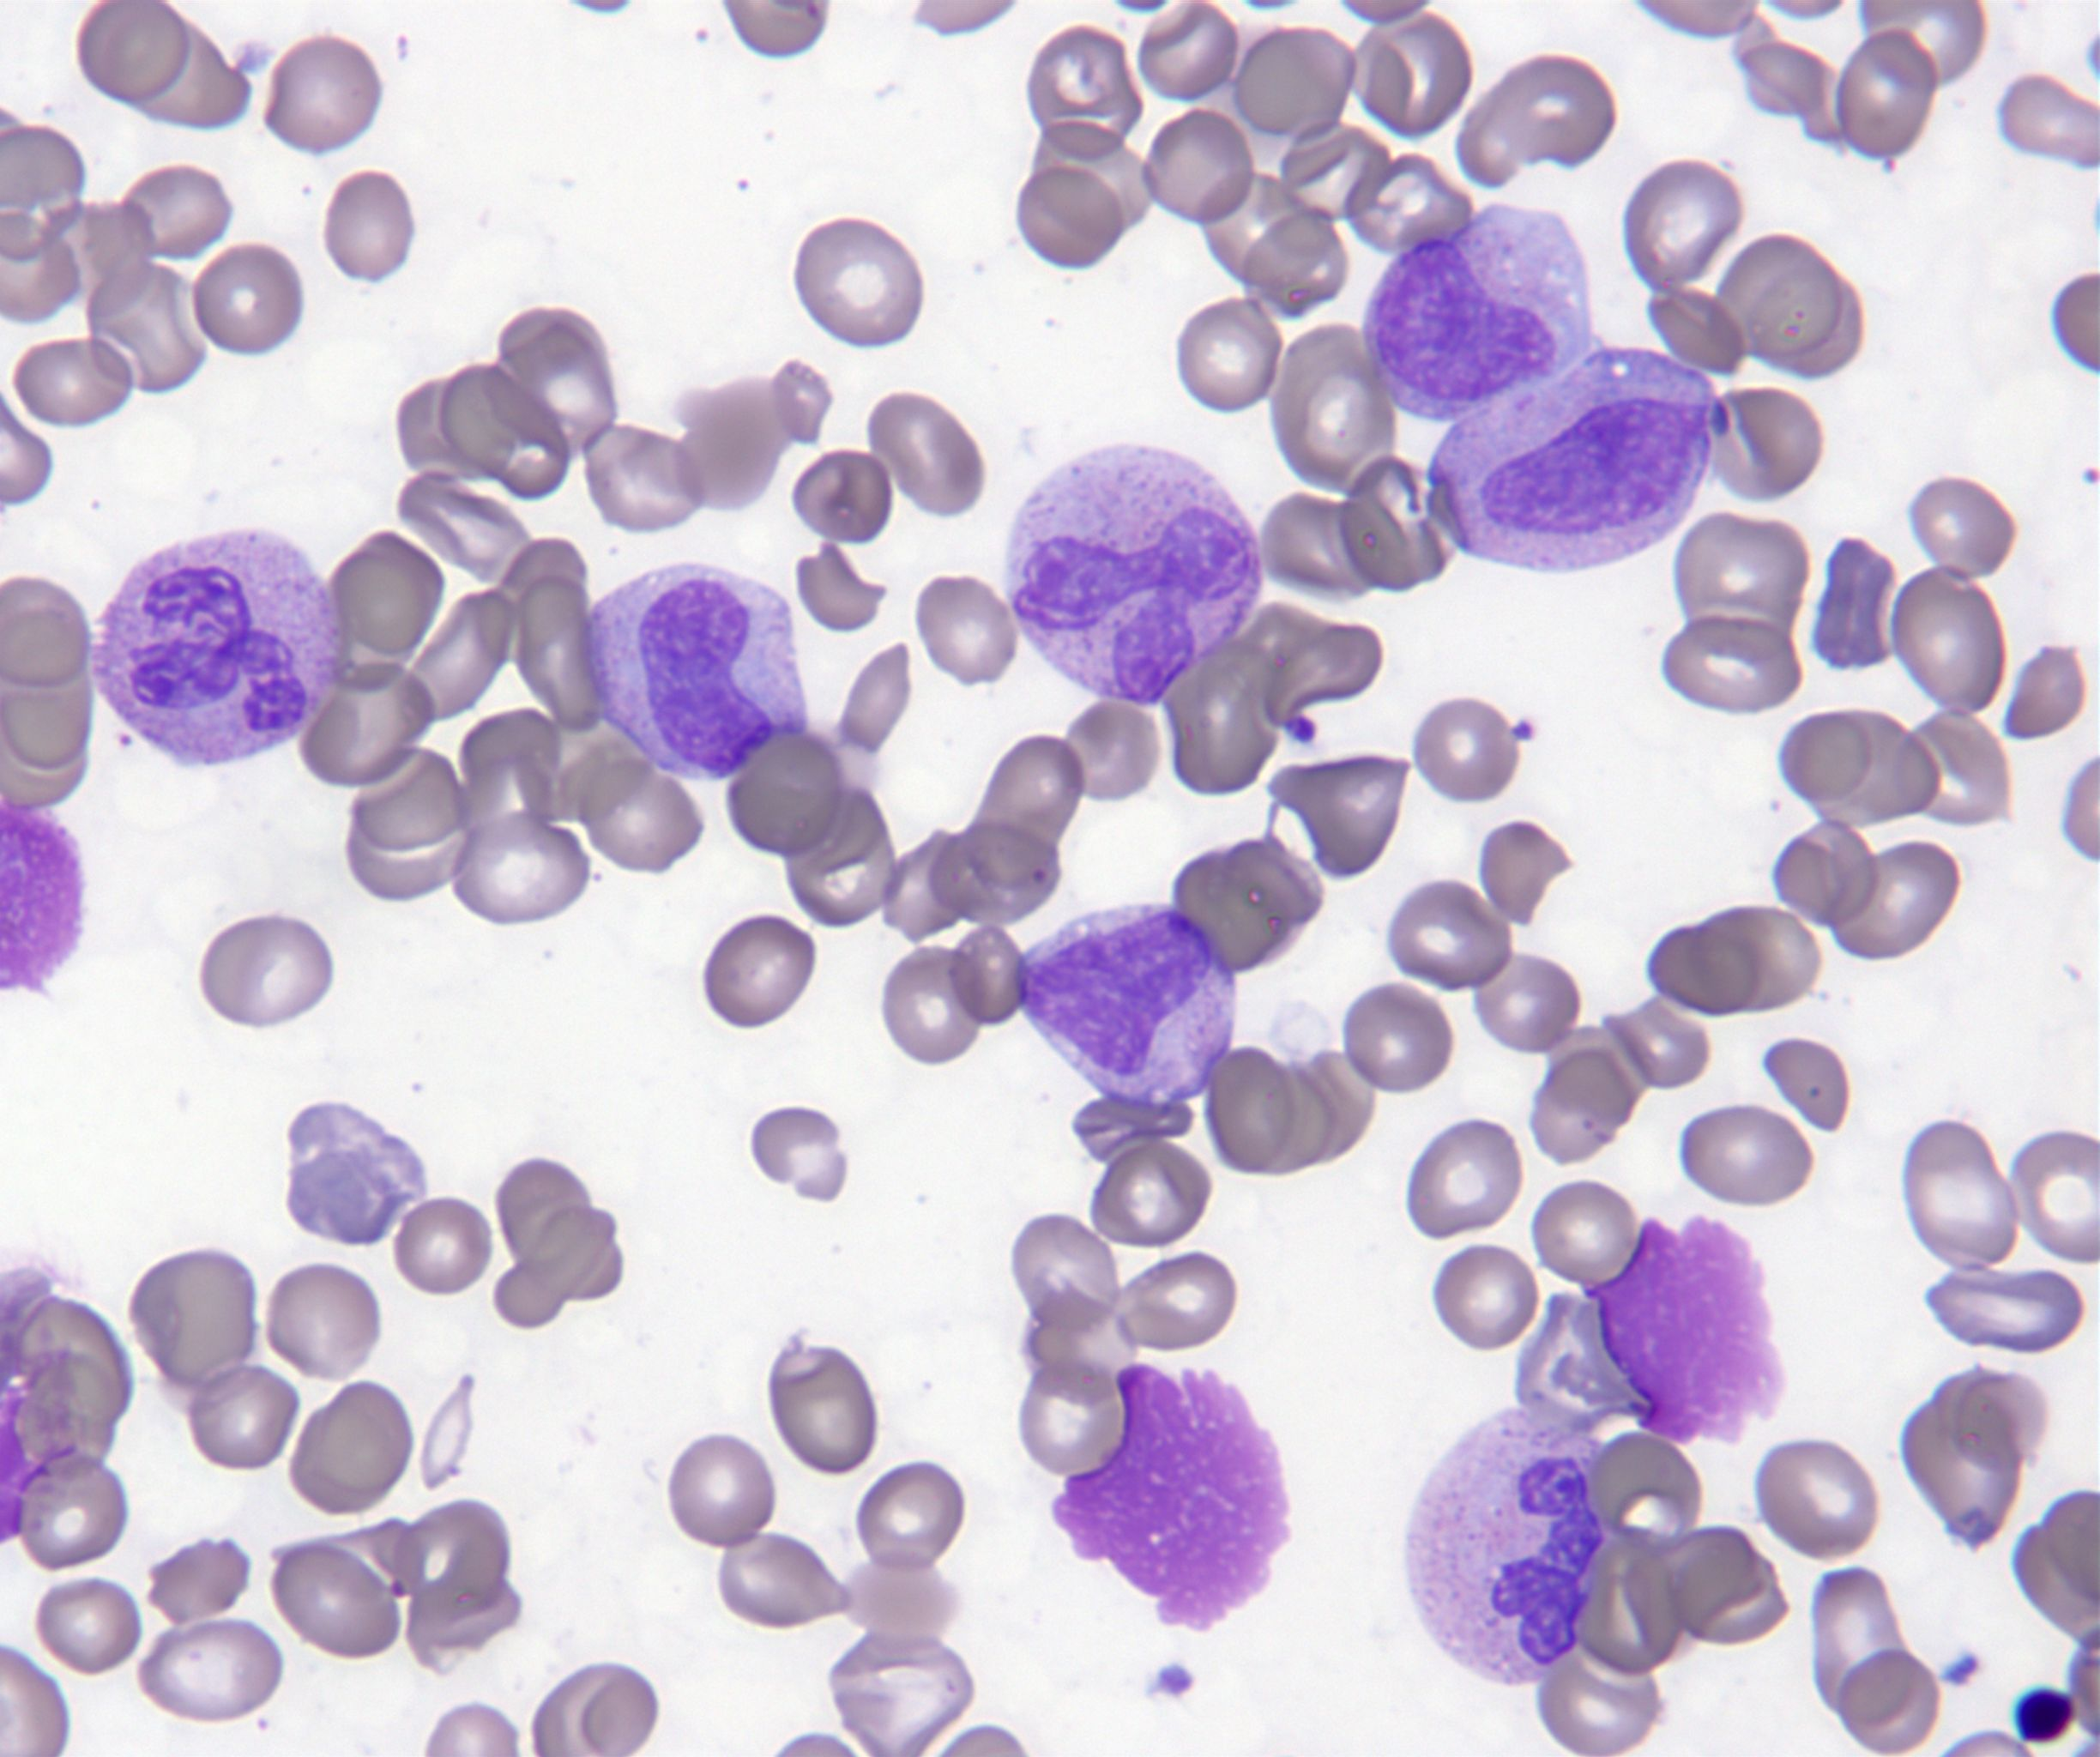3: (1360, 204, 1591, 419), (1015, 907, 1238, 1113)
4: (1425, 344, 1716, 572), (579, 564, 809, 783)
5: (1008, 447, 1258, 707), (1404, 1408, 1615, 1685)
6: (92, 530, 344, 764)
x: (1052, 1363, 1289, 1633), (1584, 1216, 1786, 1445), (0, 797, 84, 996)
